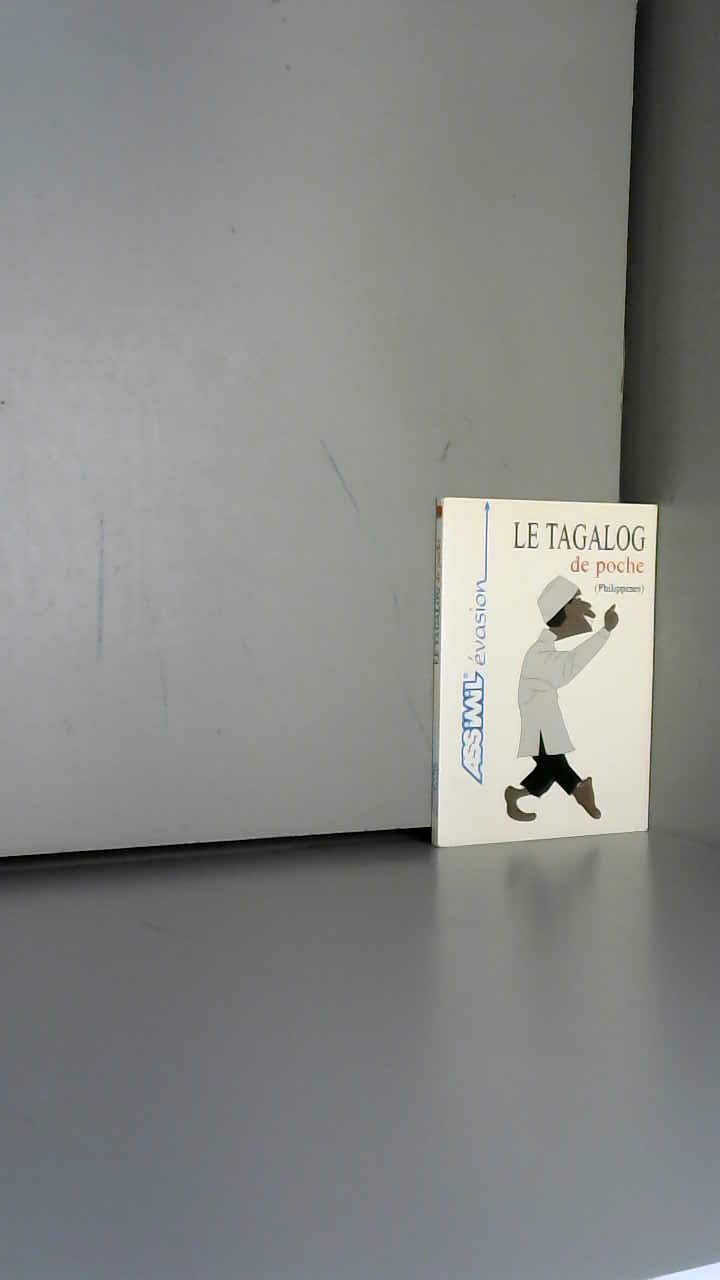book: (410, 470, 718, 911)
